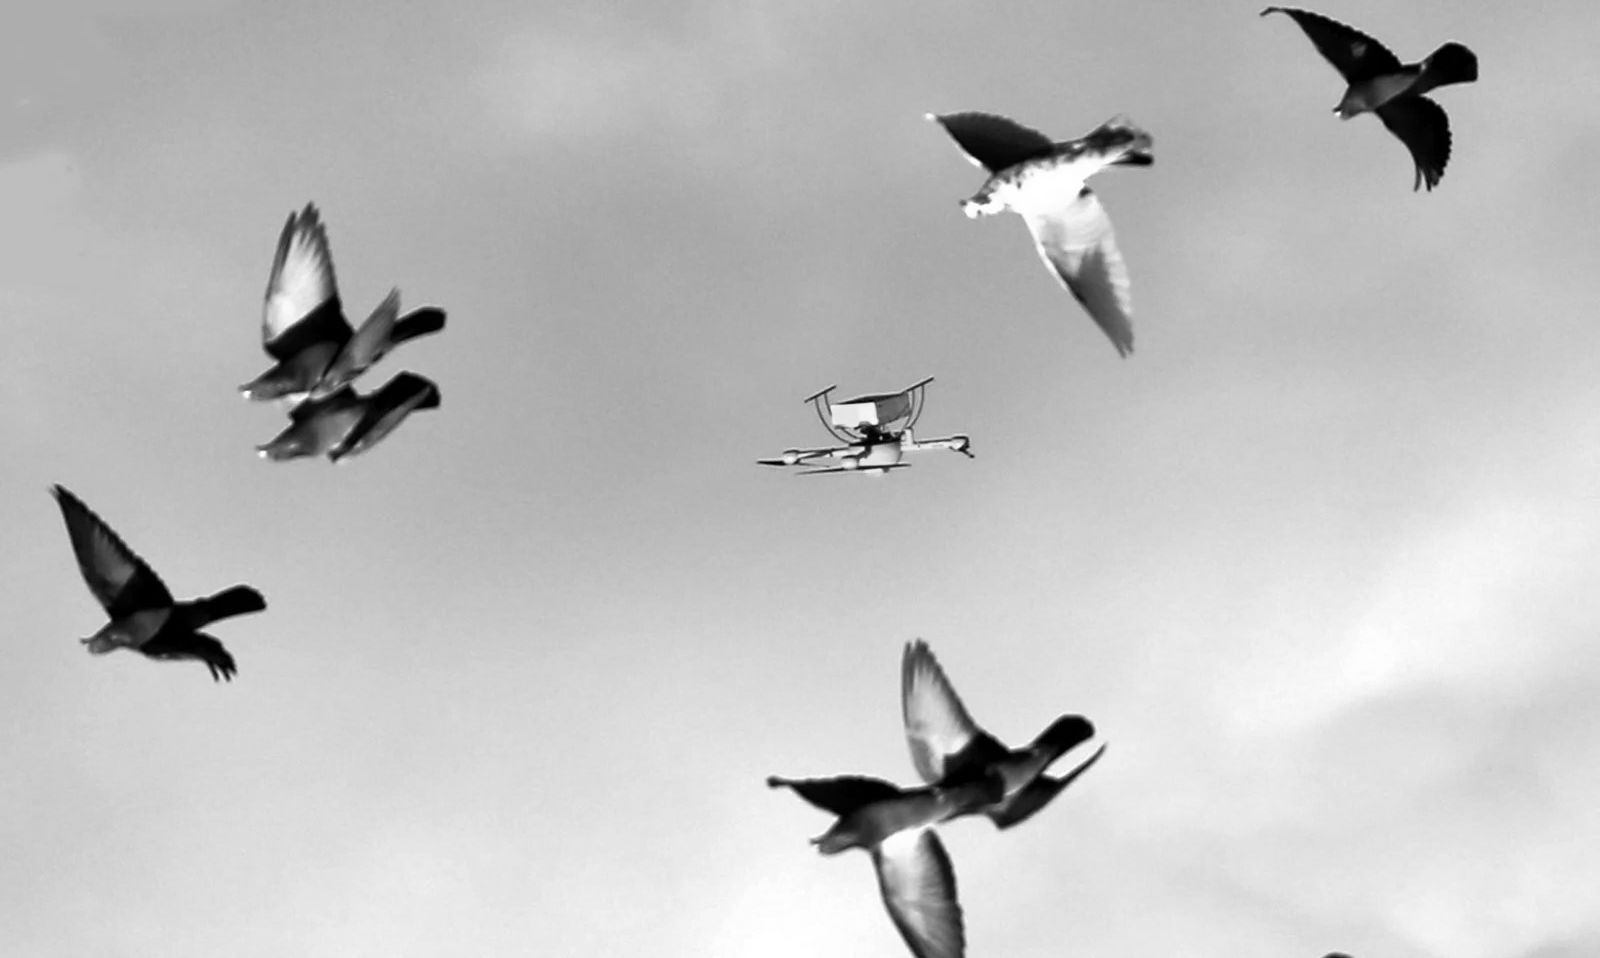Bird: (917, 84, 1169, 367), (46, 464, 266, 687), (227, 187, 450, 400), (891, 624, 1108, 836), (1254, 3, 1489, 200), (749, 762, 988, 953), (247, 371, 449, 472)
Drone: (750, 371, 981, 486)
